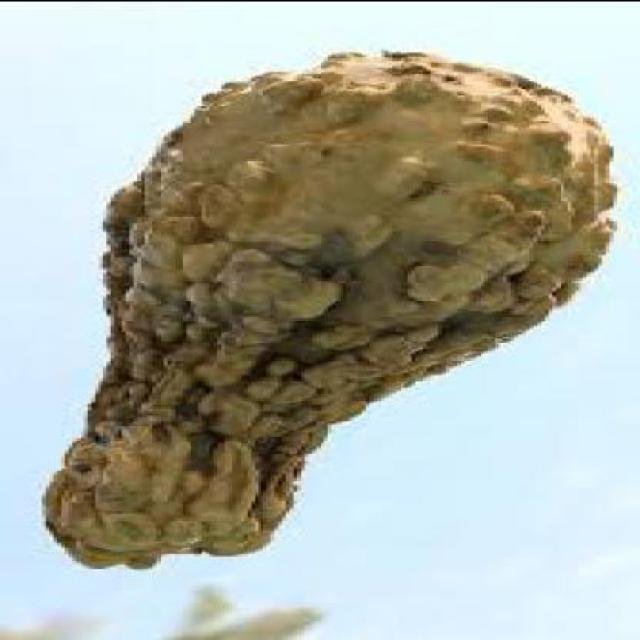BIODEGRADABLE: (40, 52, 618, 572)
